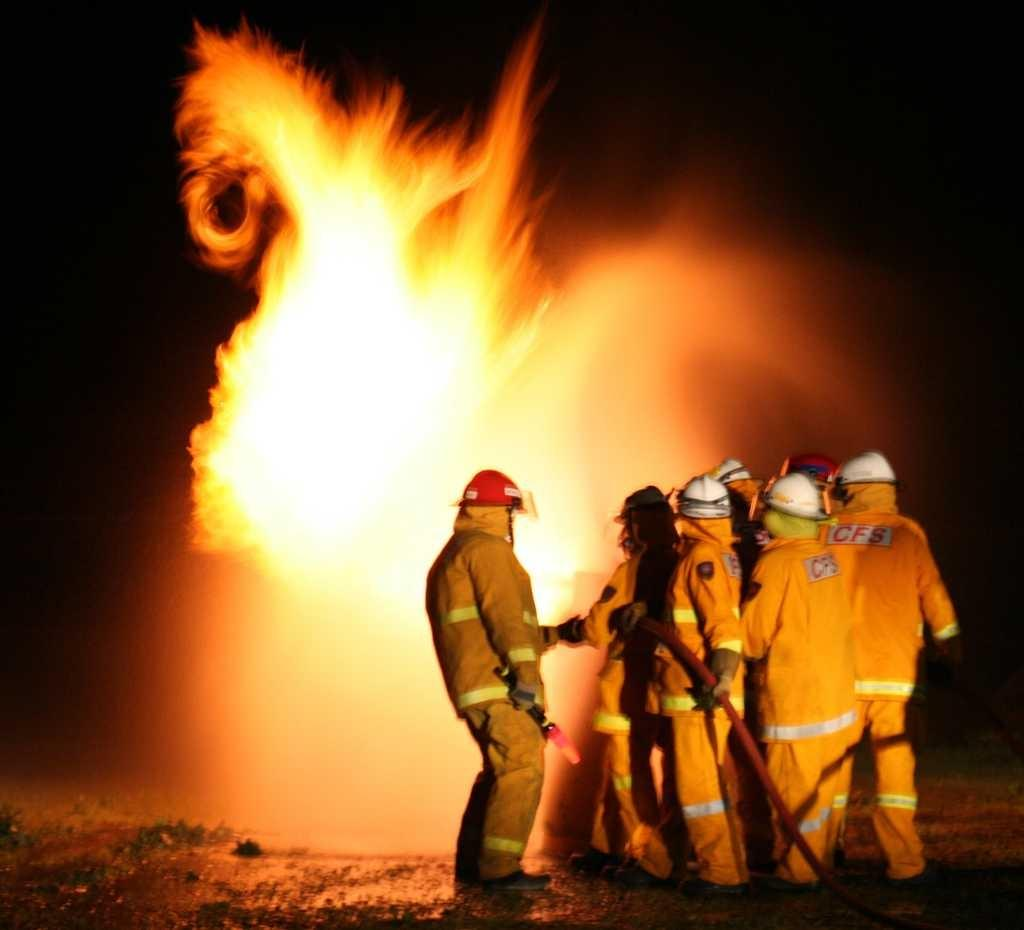fire: (187, 34, 579, 566)
